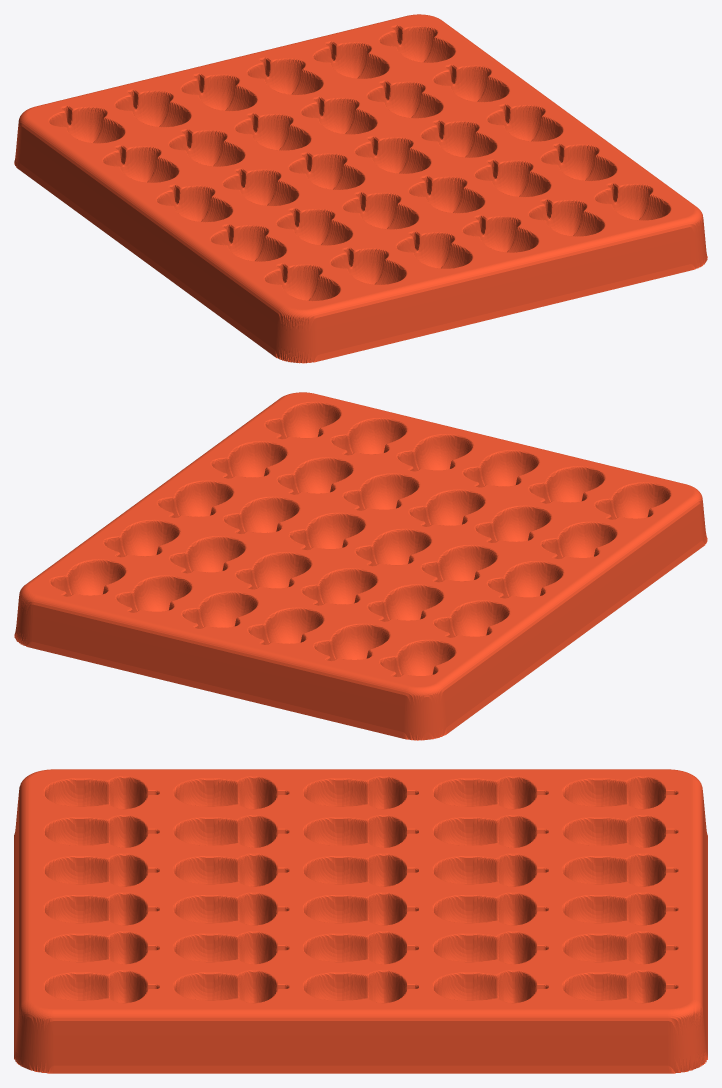
The model's file is mold.glb.
The picture shows the model from 3 angles, top to bottom: view 1: azimuth 30°, elevation 25°; view 2: azimuth 150°, elevation 25°; view 3: azimuth 270°, elevation 25°; orthographic projection. The views are drawn at different scales.
Parts seen in each view (by area): view 1: geometry_0; view 2: geometry_0; view 3: geometry_0.
Boxes of the visible parts, x1,y1,x2,y2 form: geometry_0: (14, 14, 707, 363); geometry_0: (14, 392, 707, 740); geometry_0: (14, 769, 707, 1073).
Size of the model in its own units: 0.1357 by 0.0145 by 0.1578.
